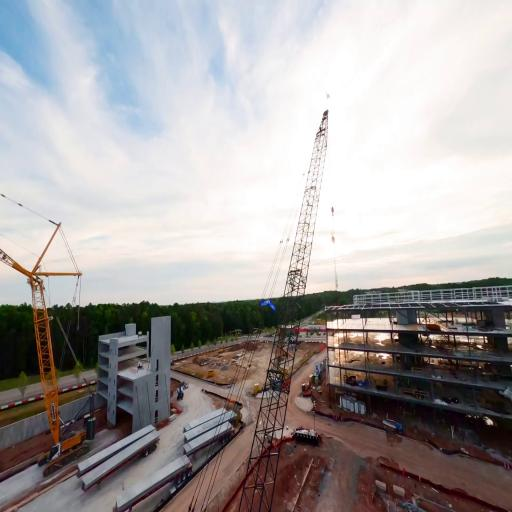uav: (260, 299, 277, 312)
